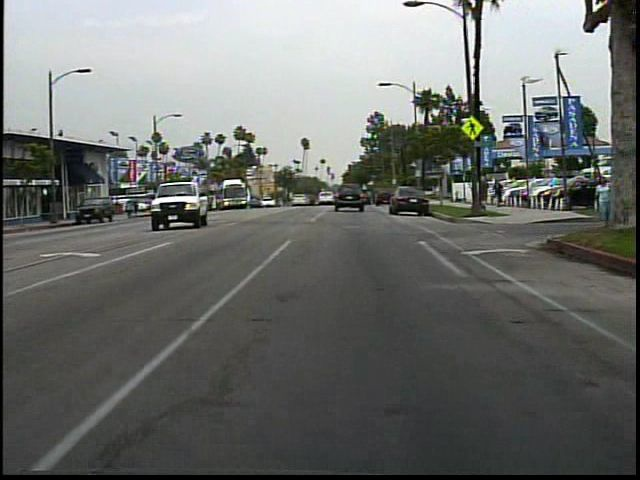person: (589, 171, 614, 231)
